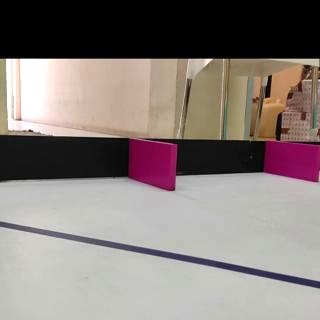xparking: (132, 146, 176, 188), (270, 144, 318, 179)
